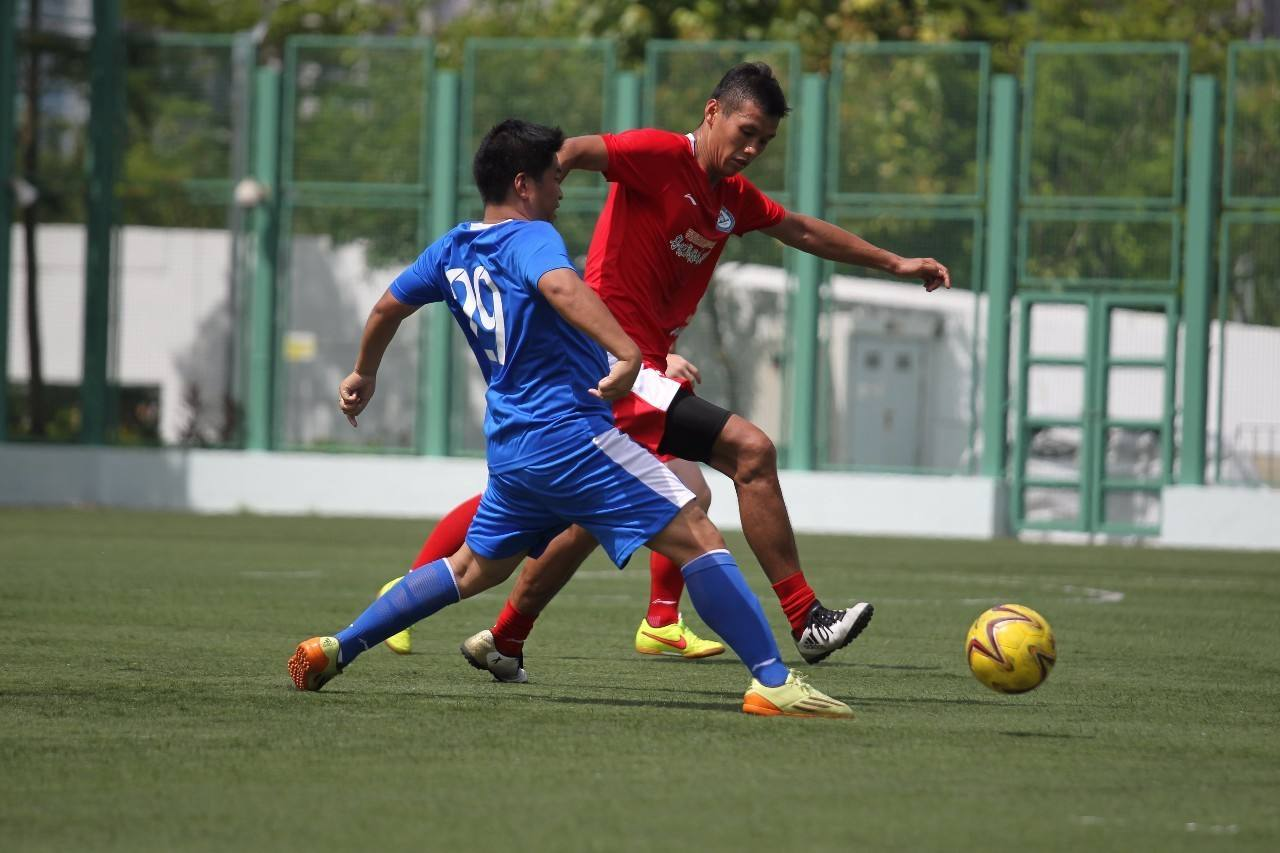football: (965, 602, 1060, 696)
